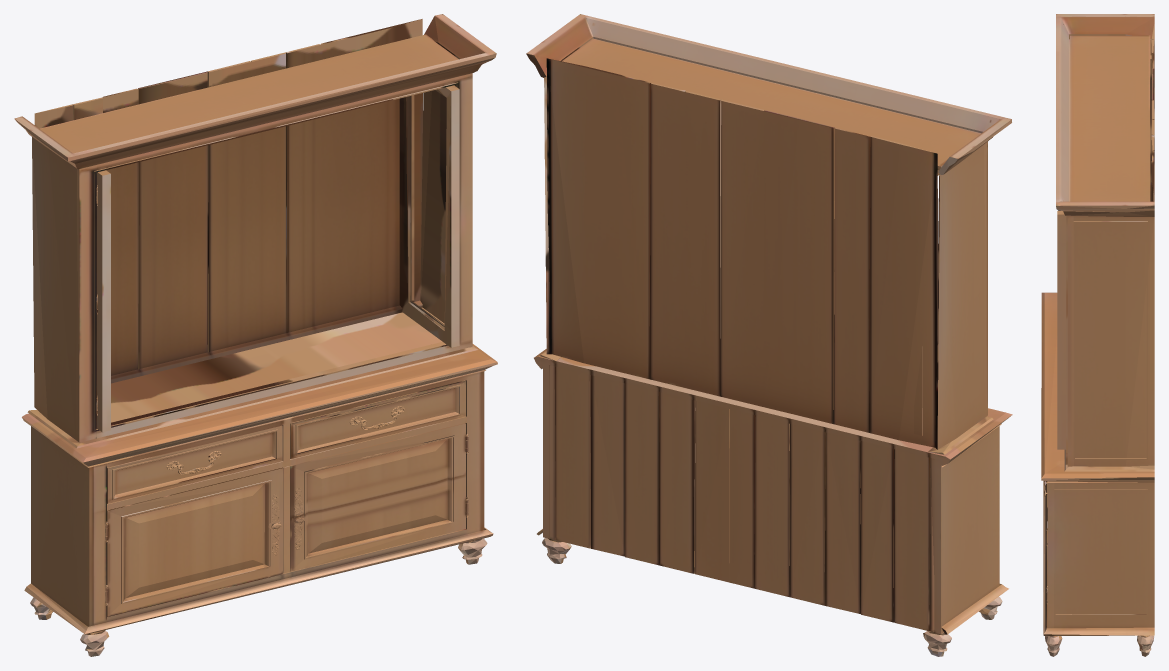
Rendered from edited_mesh.glb.
3 views of the same model, side by side, from view 1: azimuth 30°, elevation 25°; view 2: azimuth 150°, elevation 25°; view 3: azimuth 270°, elevation 25° (orthographic). The views are drawn at different scales.
Visible parts, largest first — view 1: solid_001_wire; view 2: solid_001_wire; view 3: solid_001_wire.
Boxes of the visible parts, x1,y1,x2,y2 form: solid_001_wire: (14,14,497,656); solid_001_wire: (526,14,1012,656); solid_001_wire: (1041,14,1154,656).
Bounding box in the file's own units: 1.23 × 1.38 × 0.3083.
Materials: 1 (1 with a texture image).
